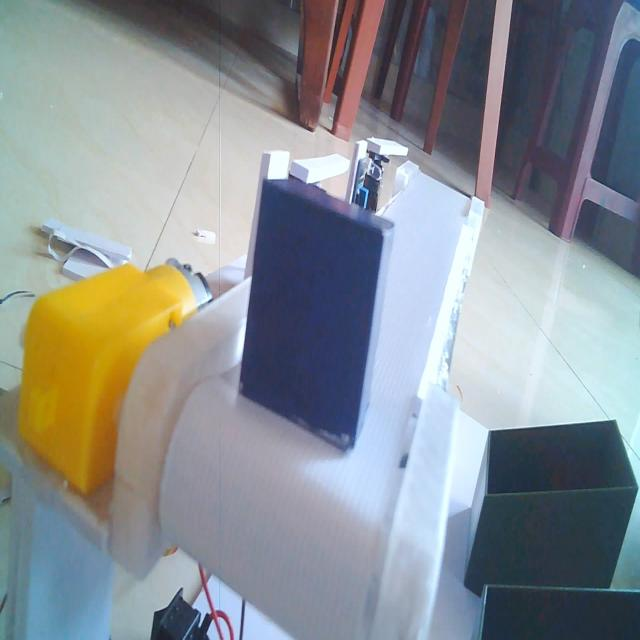blue: (235, 169, 396, 458)
